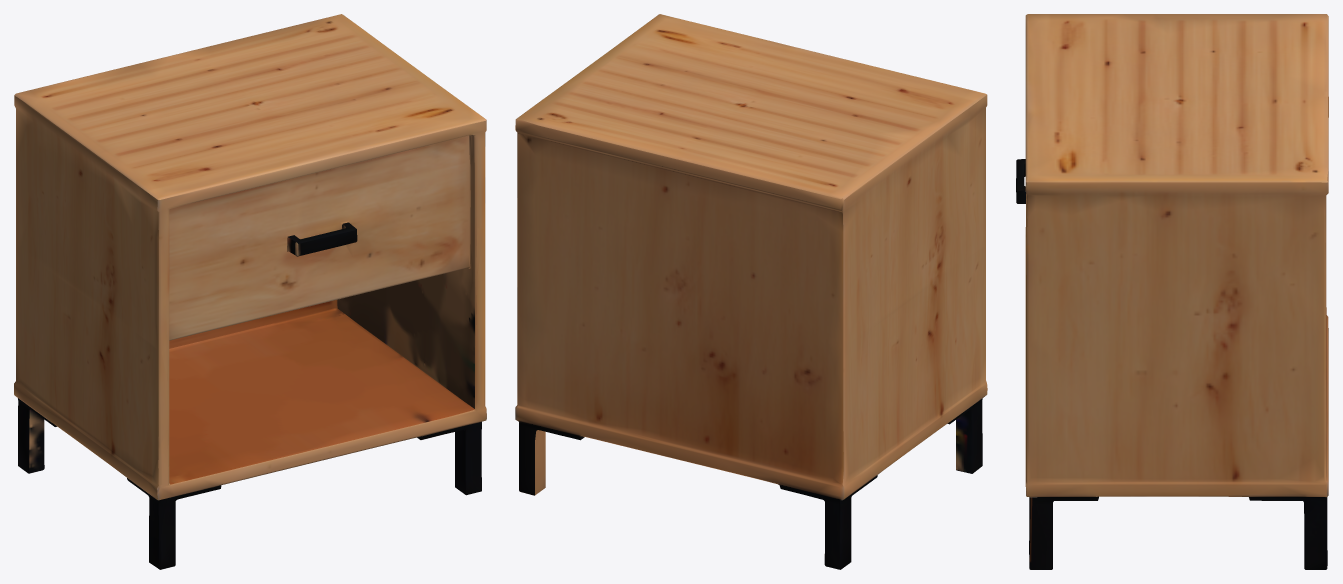
Rendered from TableChevet1_3D_textured.glb.
The picture shows the model from 3 angles, left to right: view 1: azimuth 30°, elevation 25°; view 2: azimuth 150°, elevation 25°; view 3: azimuth 270°, elevation 25°; orthographic projection. The views are drawn at different scales.
Parts seen in each view (by area): view 1: temp_mesh.ply; view 2: temp_mesh.ply; view 3: temp_mesh.ply.
Boxes of the visible parts, x1,y1,x2,y2 form: temp_mesh.ply: (14, 14, 486, 569); temp_mesh.ply: (515, 14, 987, 569); temp_mesh.ply: (1016, 14, 1328, 569).
Size of the model in its own units: 1.82 by 1.97 by 1.43.
1 material, 1 textured.
